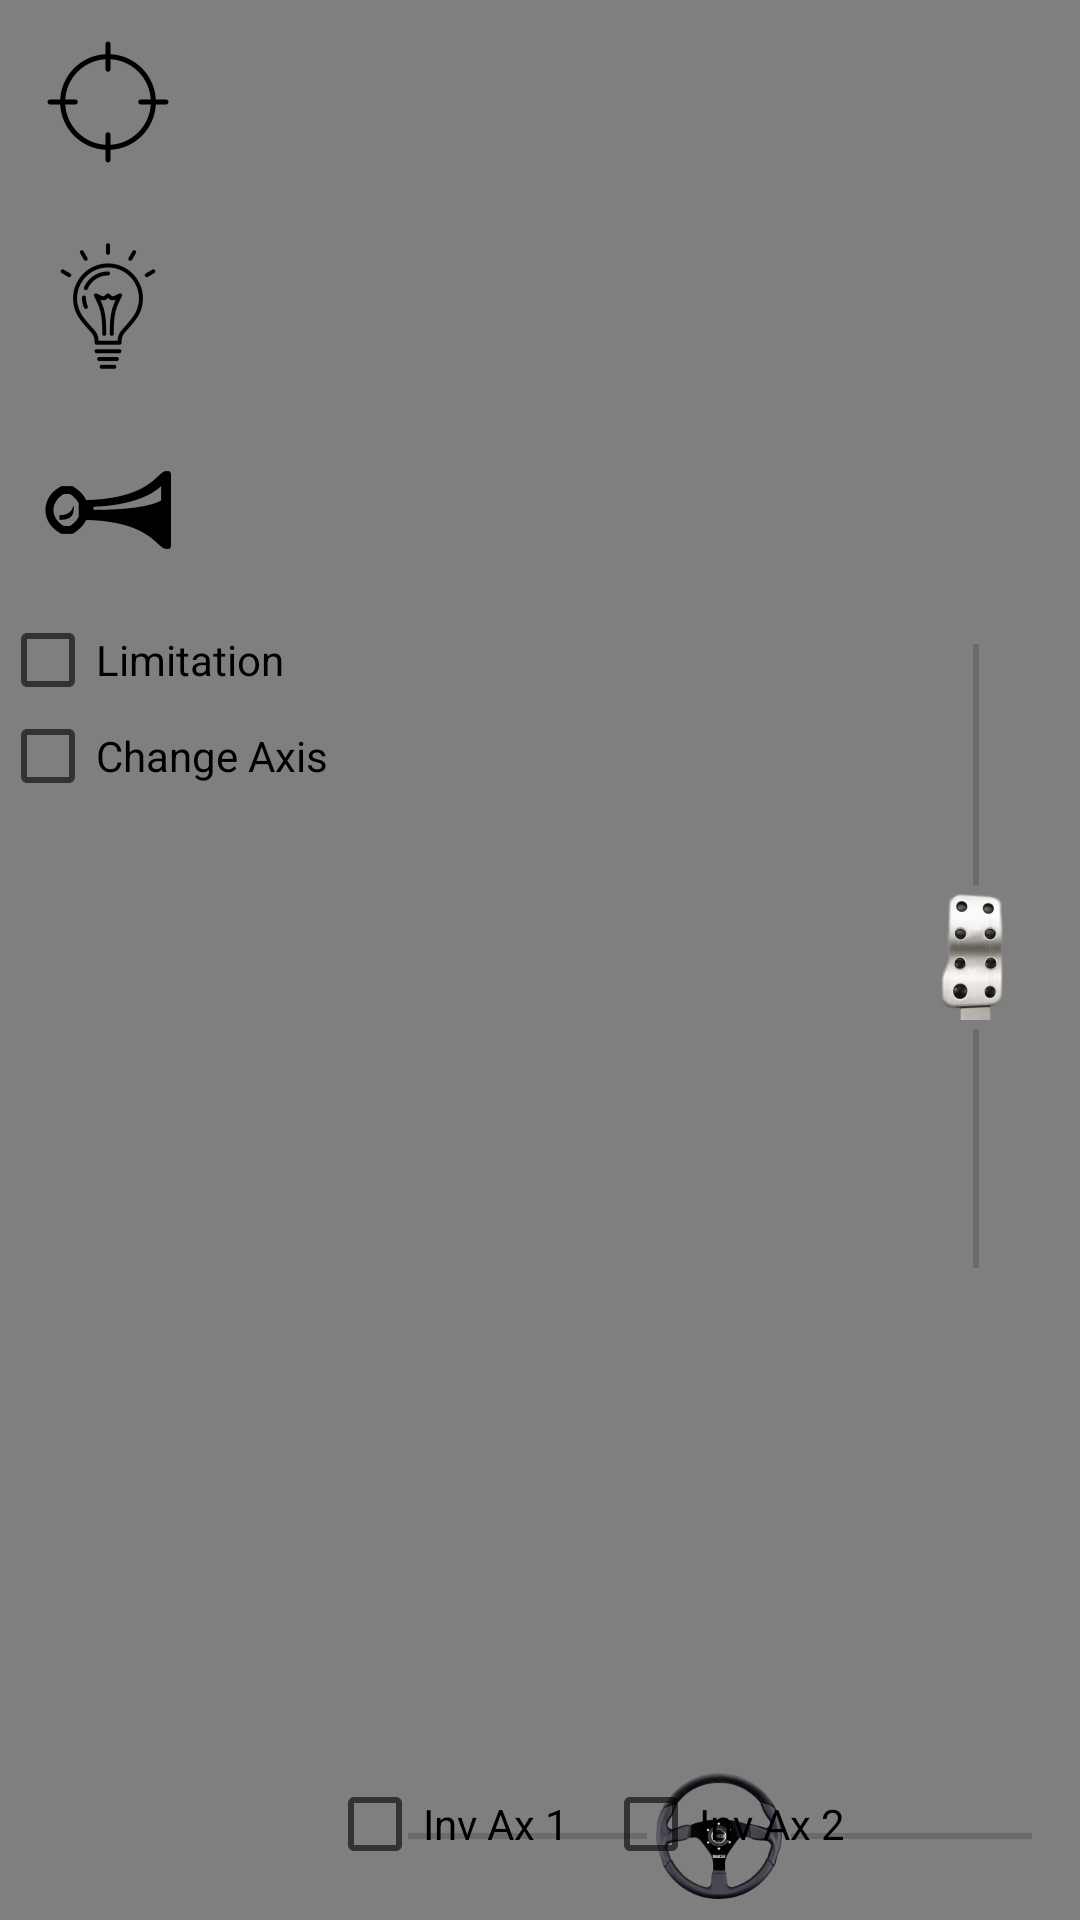

Where icons sit on this 1080px x 1920px app screen, as [x1=x1, y1=y1, x2=x2, y2=y2]:
bulb off: [x1=60, y1=243, x2=156, y2=369]
calibration off: [x1=47, y1=41, x2=169, y2=163]
signal horn off: [x1=45, y1=471, x2=171, y2=549]
